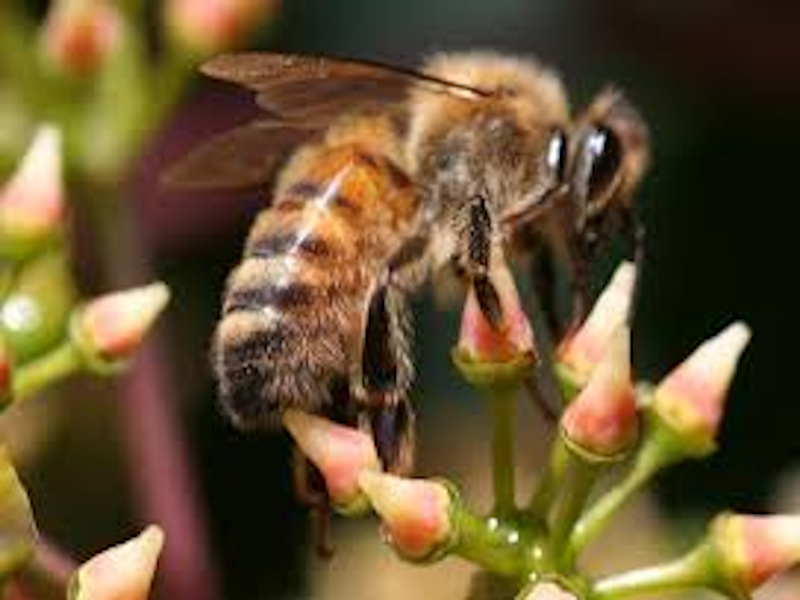abeja: (171, 26, 670, 514)
